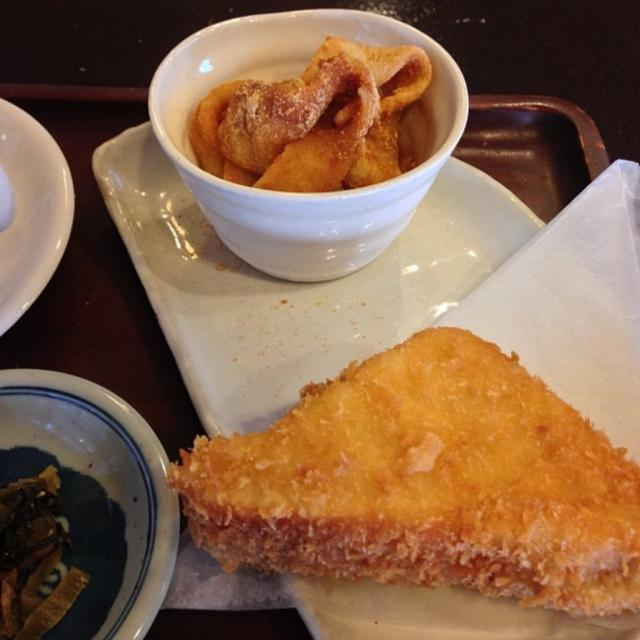ceramic plate: (159, 11, 479, 342), (0, 342, 260, 640), (0, 46, 120, 385)
